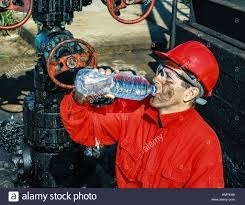helmet: (154, 39, 220, 98)
person with partial safety: (76, 39, 225, 188)
